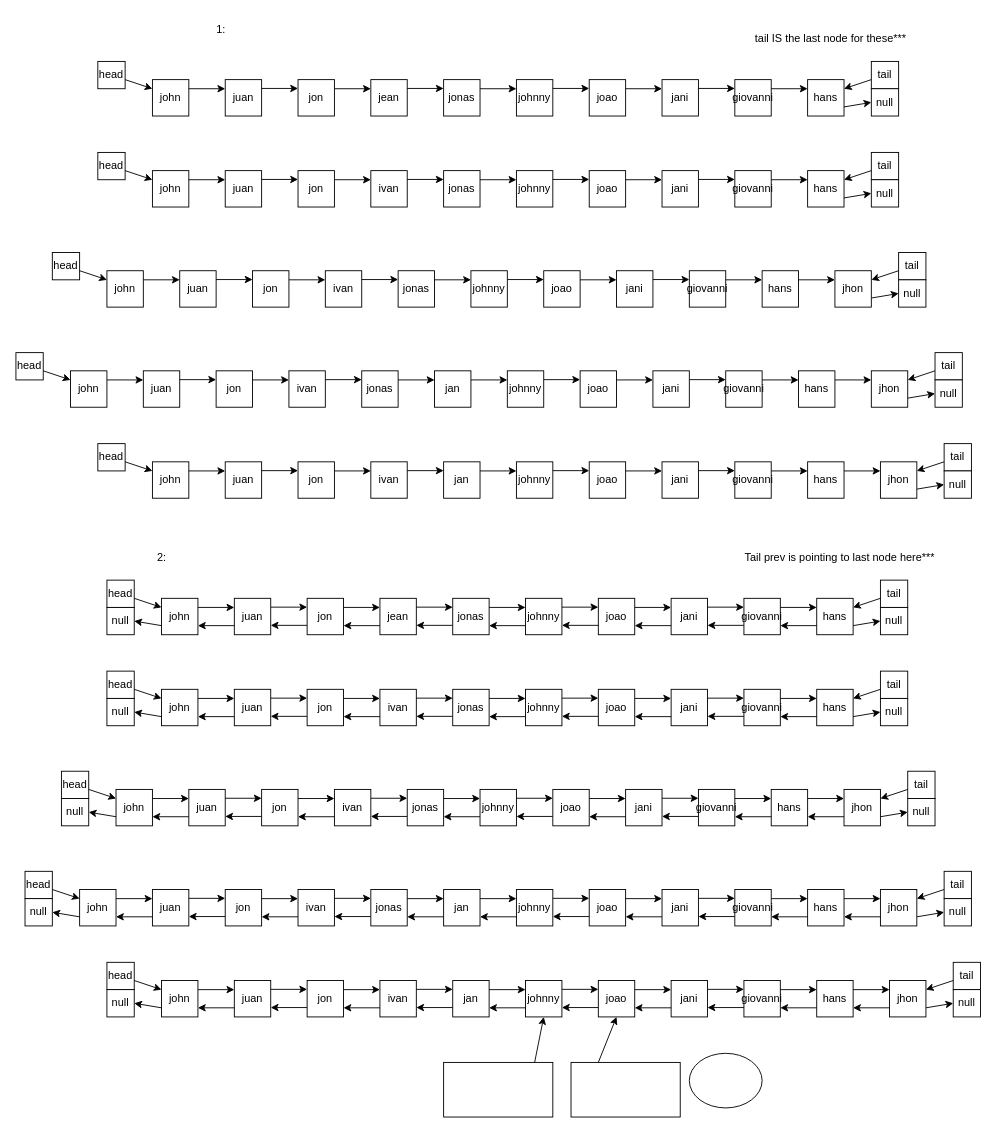
The diagram is 996 pixels wide and 1133 high, and some of its shapes have lost their labels. The centre of each missing label's shape, as x and y in pixels:
"Index = 6" goes at (x=725, y=1080).
"lastItemReturned" goes at (x=498, y=1089).
"nextItem" goes at (x=625, y=1089).
